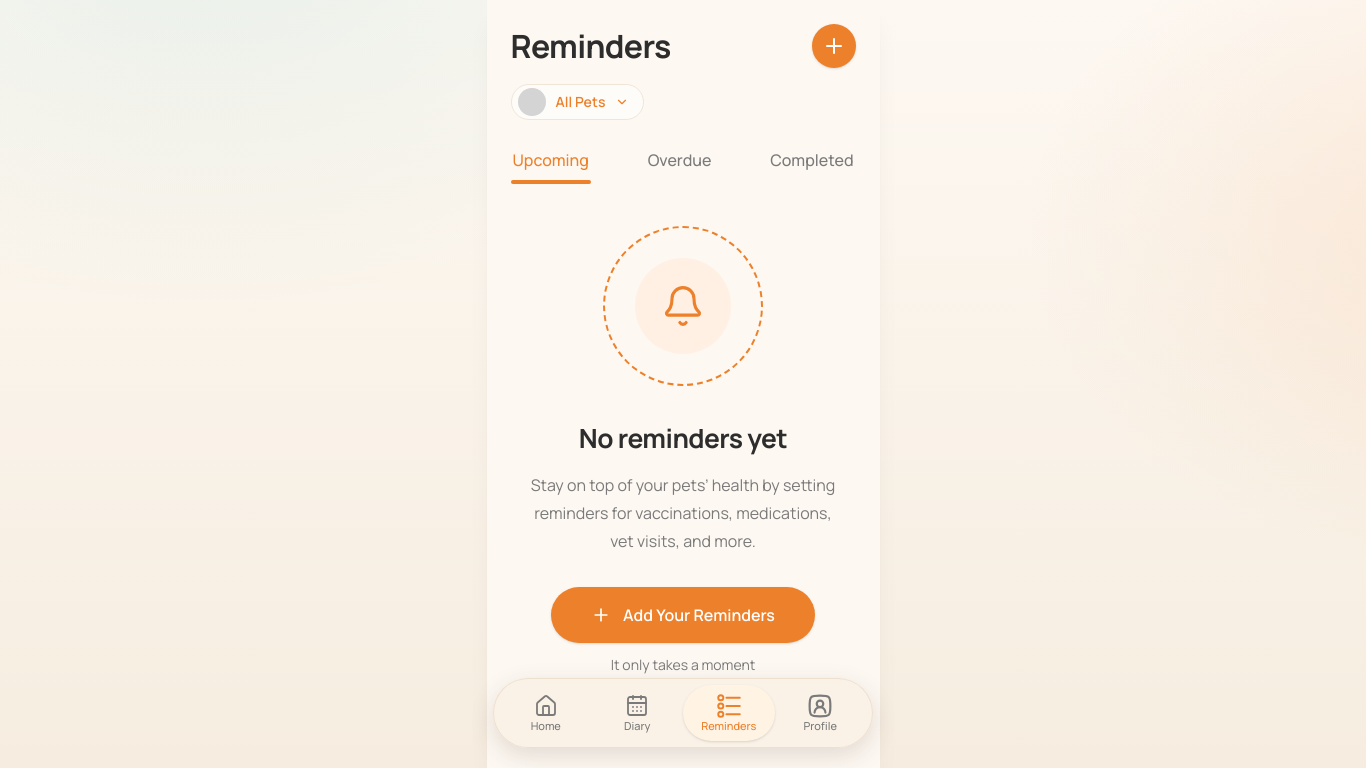
RemindersHome › uses all-pets copy for the empty-state journey
Expected: the heading "No reminders yet" is shown, [579,422,787,455]
Expected: the text "Stay on top of your pets’ health" is shown, [531,474,835,552]
Click the tab "Completed" at point(812, 160), box [768,136,856,184]
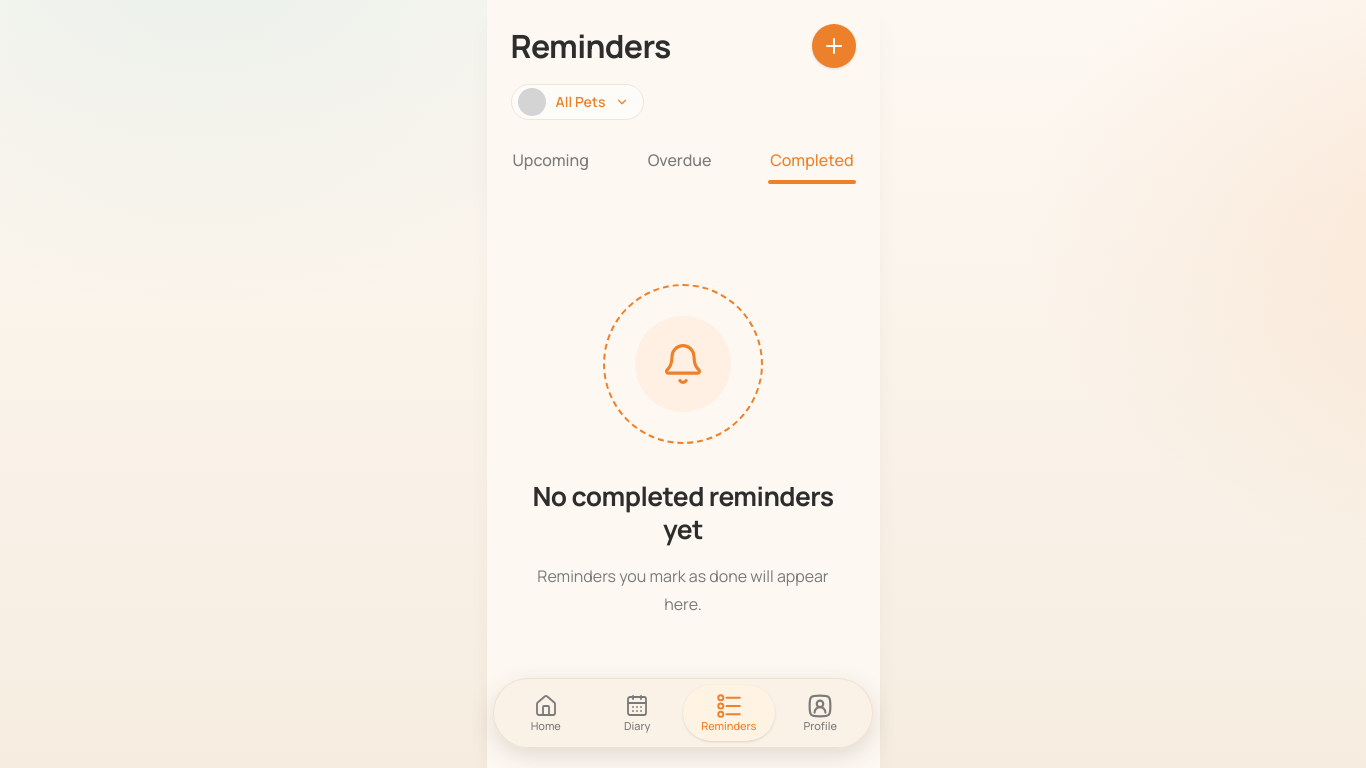
Expected: the heading "No completed reminders yet" is shown, [510,480,856,546]
